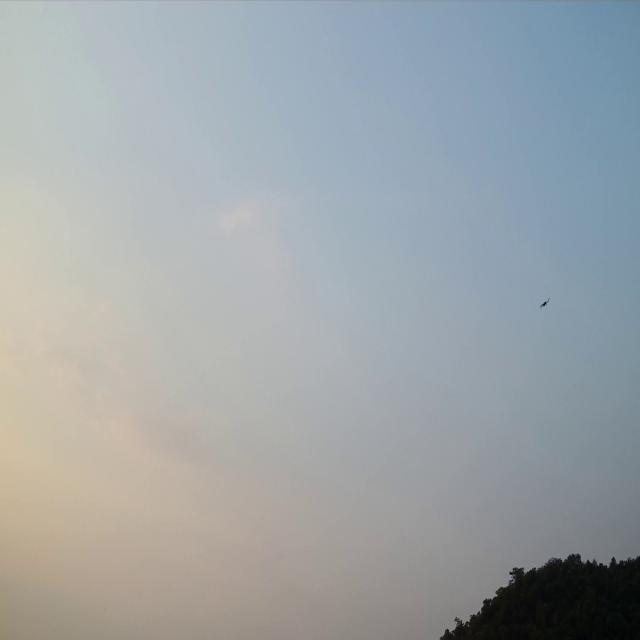drone: (540, 298, 551, 308)
